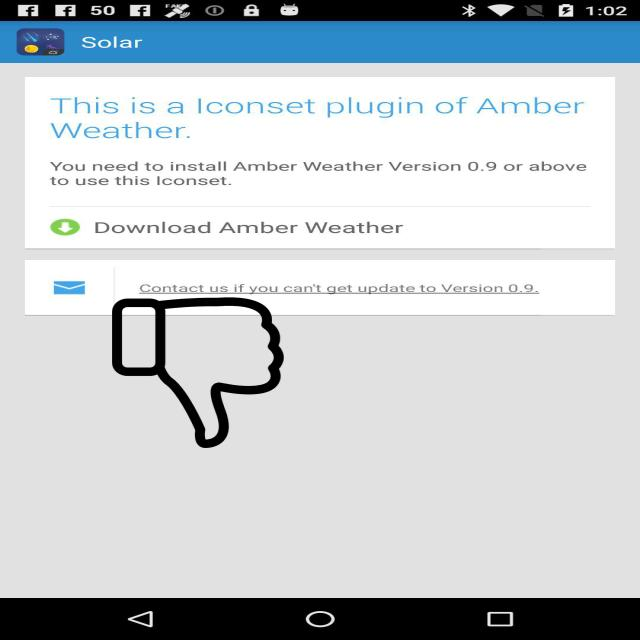obstruction: (110, 297, 286, 448)
